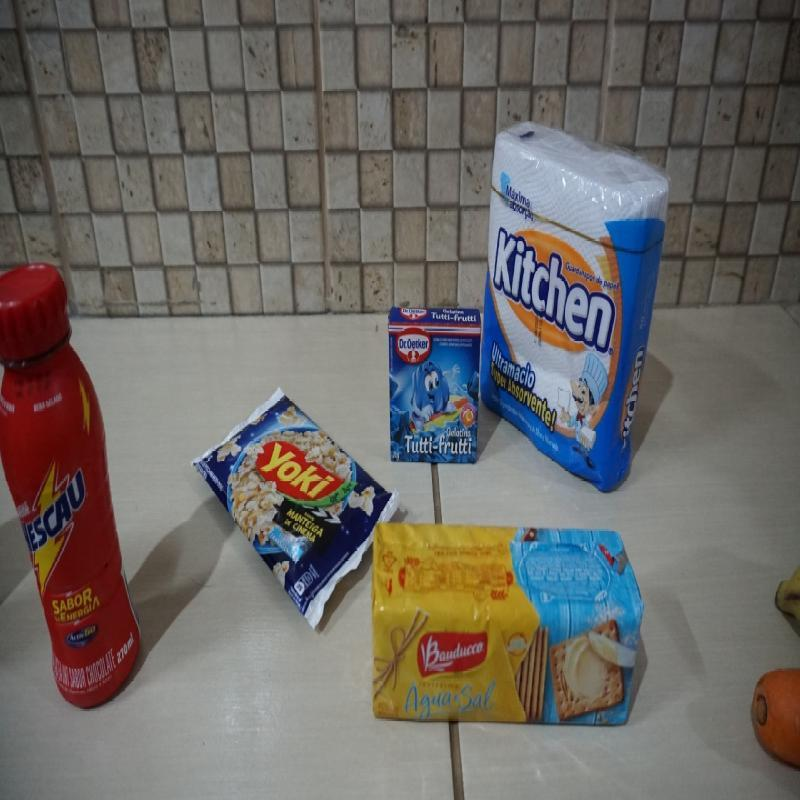Banana: (775, 564, 800, 630)
Carrot: (749, 654, 795, 775), (749, 662, 800, 762)
Chocolate Milk: (0, 263, 146, 701), (0, 260, 141, 712)
Cracker: (370, 522, 646, 732), (375, 521, 641, 736)
Gelatine: (387, 305, 482, 467), (390, 304, 480, 464)
Napkin: (478, 119, 674, 498), (489, 116, 663, 488)
Popcorn: (192, 384, 400, 628), (200, 382, 384, 632)
